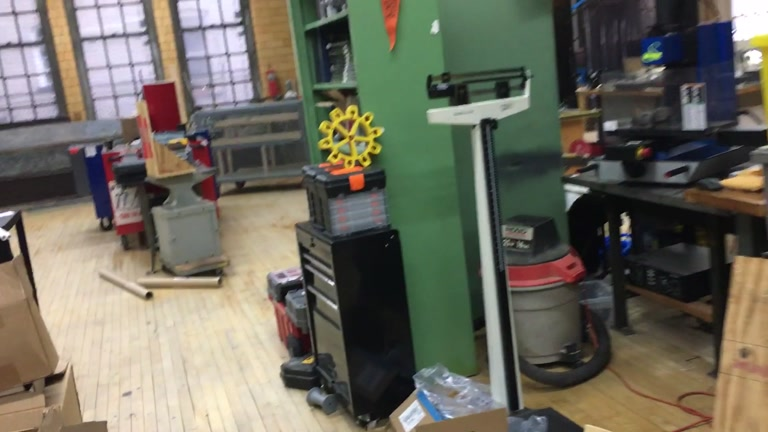gear: (317, 105, 383, 168)
